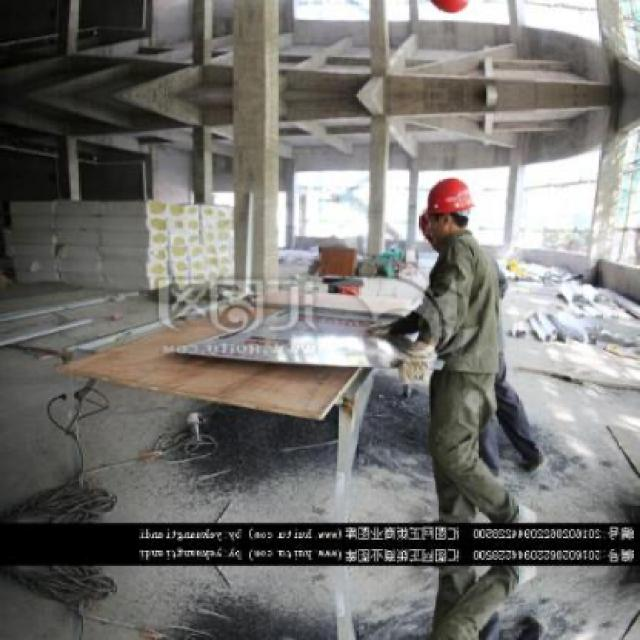con casco: (372, 130, 518, 287)
